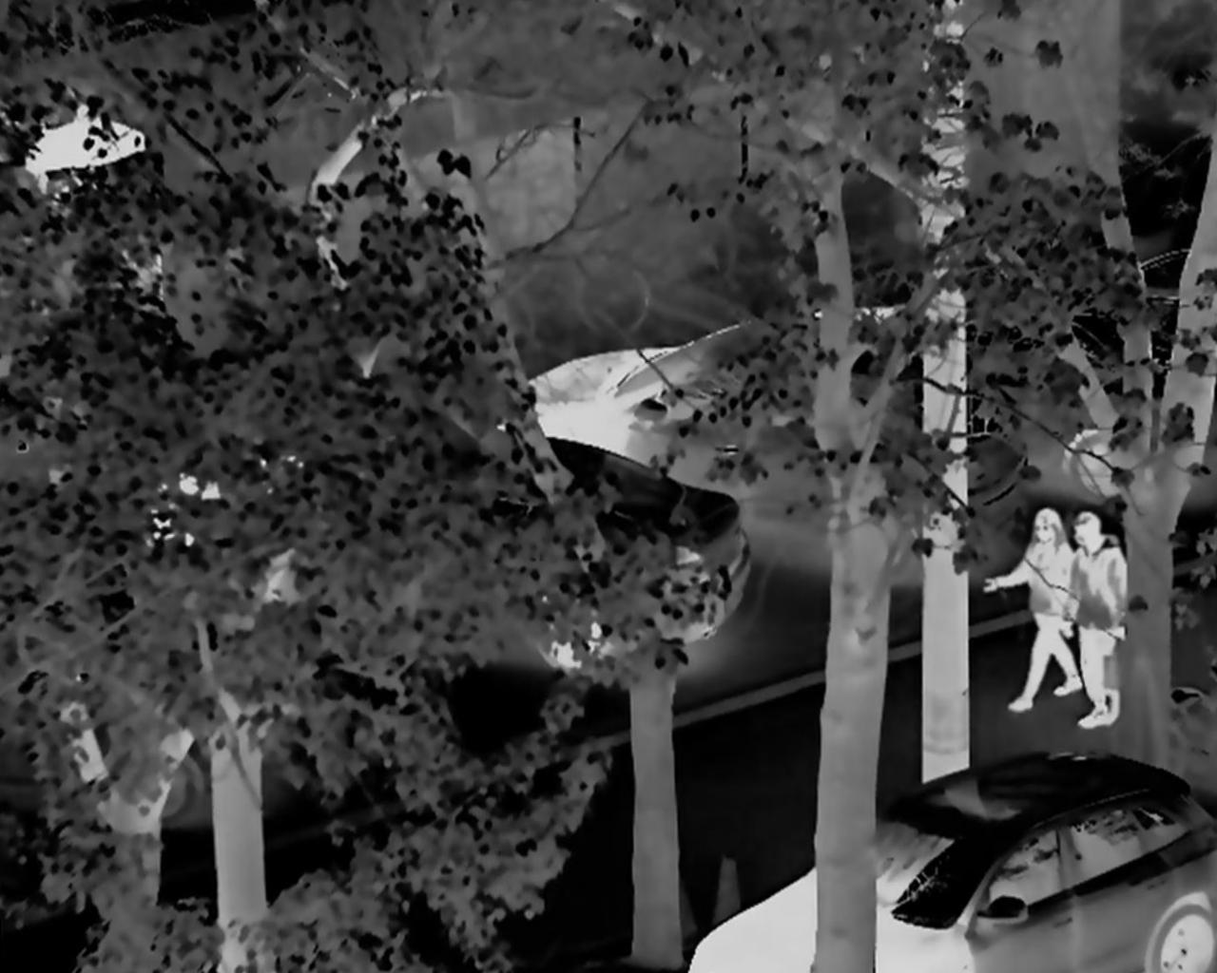person: (971, 503, 1084, 723), (1061, 510, 1131, 734)
